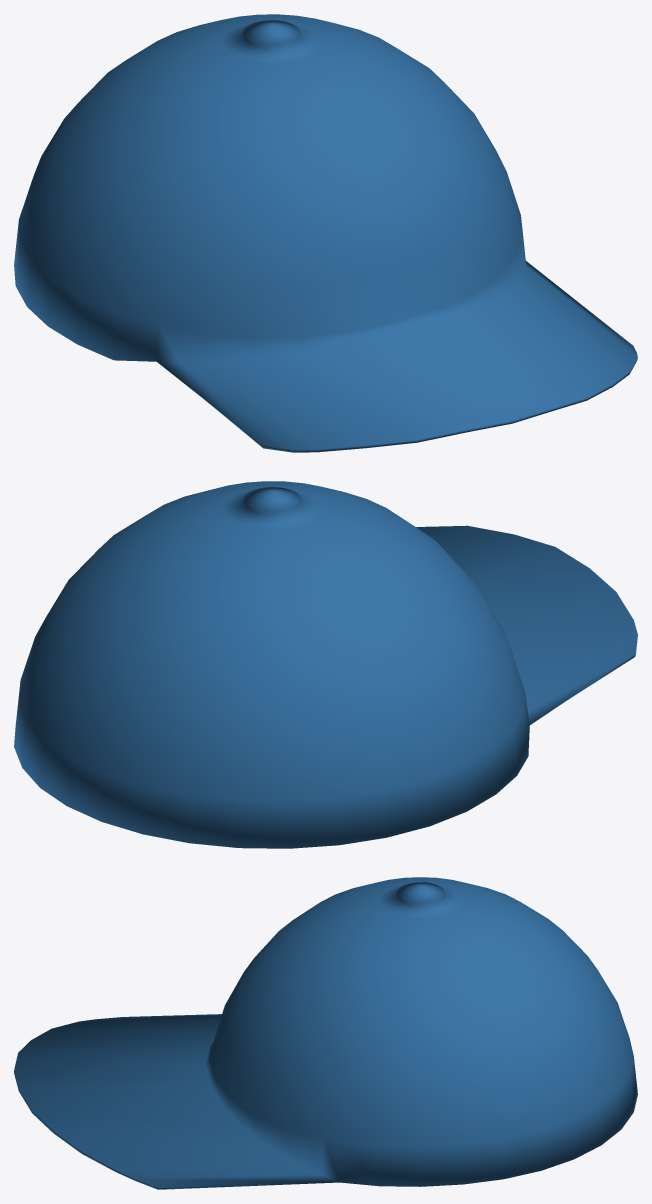
File: cap.fbx
3 views of the same model, one above another, from view 1: azimuth 30°, elevation 25°; view 2: azimuth 150°, elevation 25°; view 3: azimuth 270°, elevation 25° (orthographic). The views are drawn at different scales.
Visible parts, largest first — view 1: Sphere; view 2: Sphere; view 3: Sphere.
Part boxes in pixels (x1,y1,x2,y2): Sphere: (14,14,637,452); Sphere: (14,481,637,848); Sphere: (14,877,637,1189).
Size of the model in its own units: 140 by 78.23 by 201.
